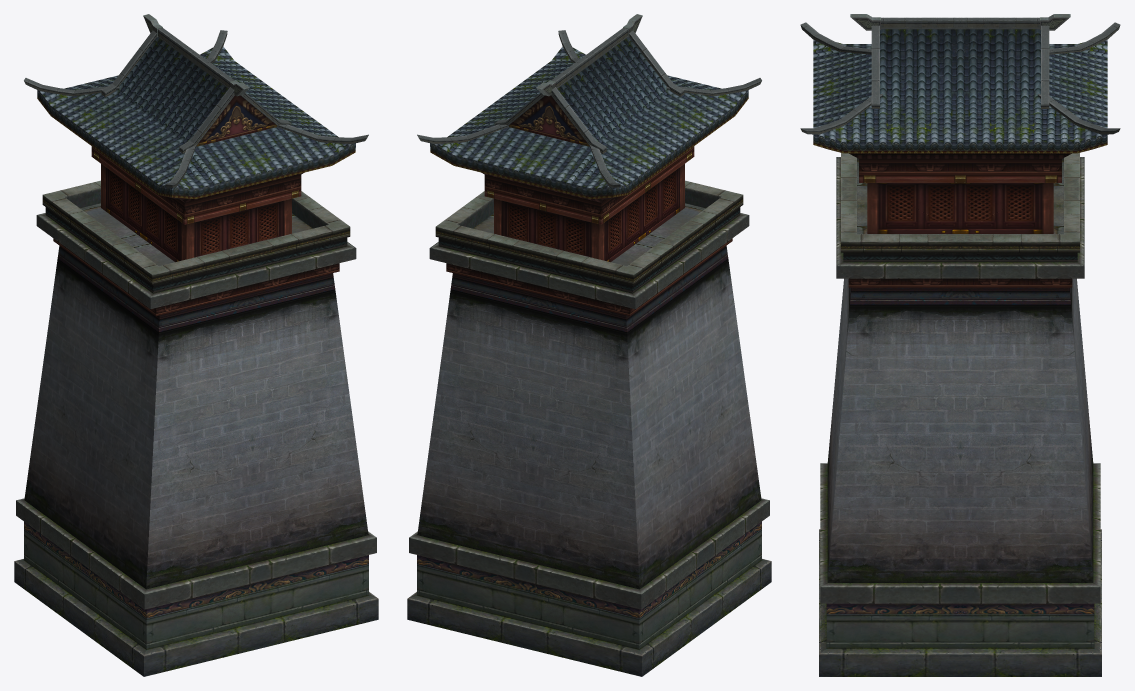
File: HYC_chengqiang_03.FBX
3 renders of one model, left to right at view 1: azimuth 30°, elevation 25°; view 2: azimuth 150°, elevation 25°; view 3: azimuth 270°, elevation 25°, orthographic. The views are drawn at different scales.
Visible parts, largest first — view 1: Object10; view 2: Object10; view 3: Object10.
Boxes of the visible parts, <box> form: Object10: <box>14,14,378,676</box>; Object10: <box>407,14,771,676</box>; Object10: <box>800,14,1120,676</box>.
Size of the model in its own units: 860 by 1921 by 931.
